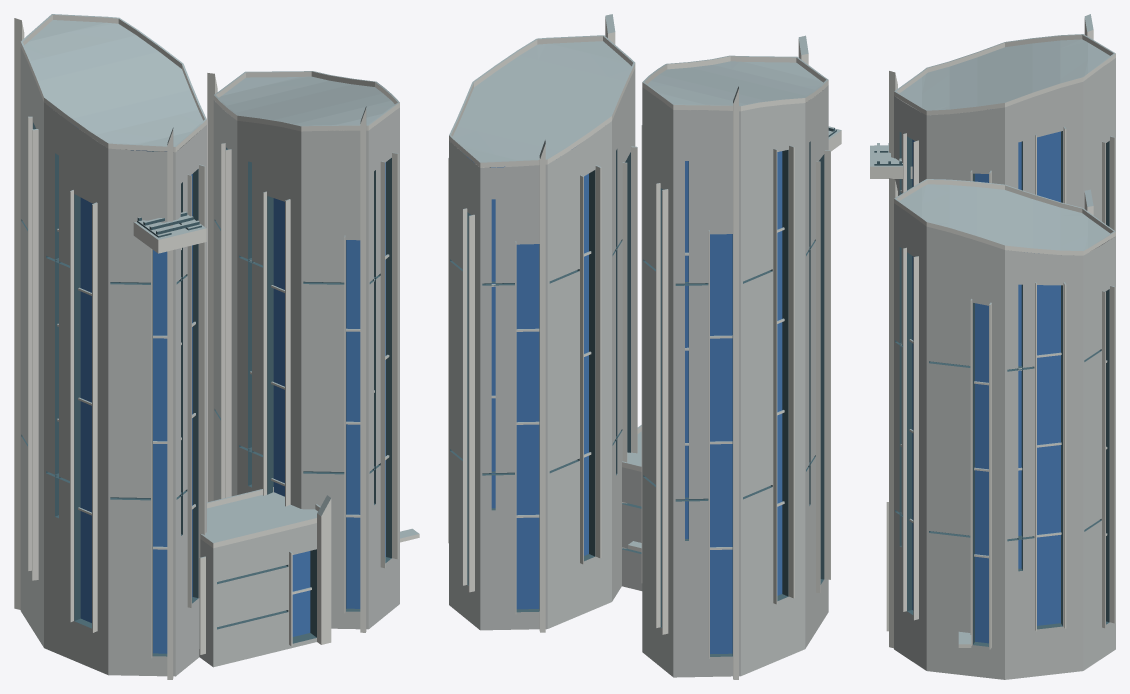
Rendered from 07_Zwillingspaar.obj.
3 views of the same model, side by side, from view 1: azimuth 30°, elevation 25°; view 2: azimuth 150°, elevation 25°; view 3: azimuth 270°, elevation 25° (orthographic). The views are drawn at different scales.
Size of the model in its own units: 0.6203 by 1 by 0.4211.
